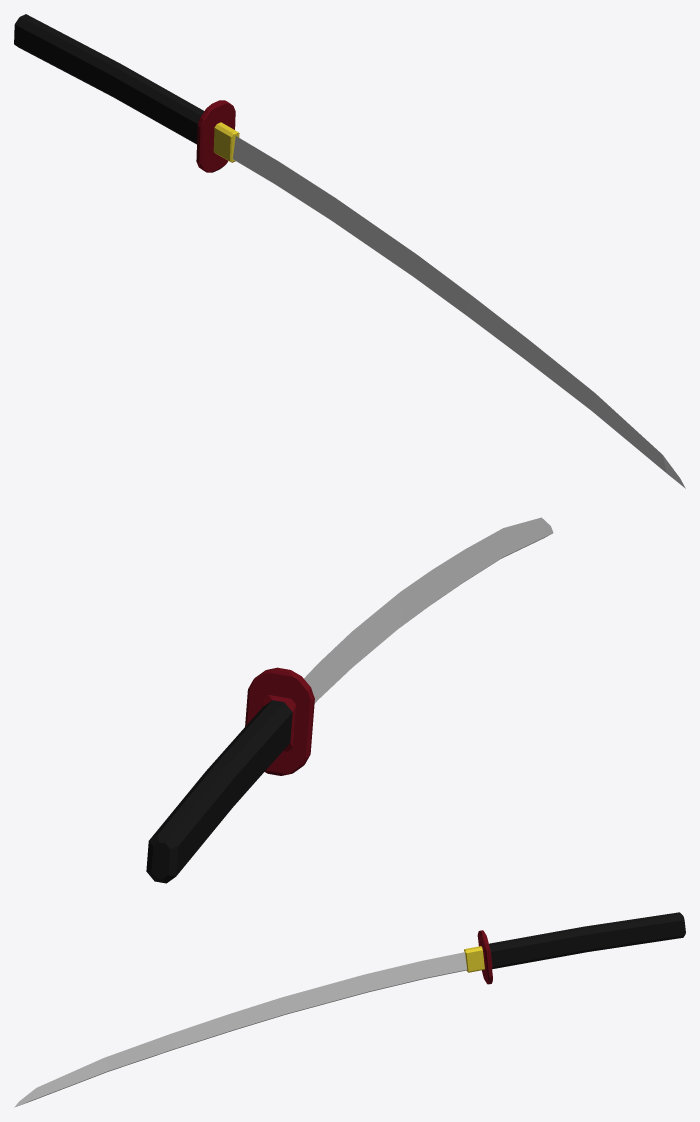
The model's file is katana.fbx.
3 renders of one model, top to bottom at view 1: azimuth 30°, elevation 25°; view 2: azimuth 150°, elevation 25°; view 3: azimuth 270°, elevation 25°, orthographic. The views are drawn at different scales.
Visible parts, largest first — view 1: Cube; view 2: Cube; view 3: Cube.
Boxes of the visible parts, x1,y1,x2,y2 form: Cube: [14, 14, 685, 488]; Cube: [146, 517, 553, 883]; Cube: [14, 912, 685, 1107].
Bounding box in the file's own units: 439 × 369 × 1761.
